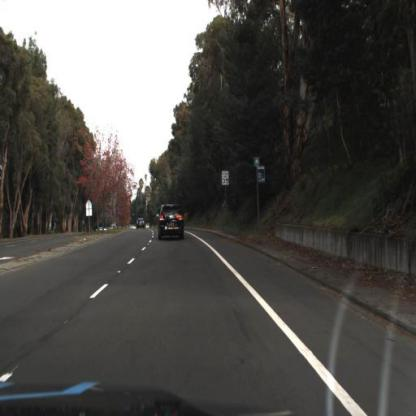car: (155, 201, 187, 244), (136, 212, 150, 234), (134, 215, 147, 234)
